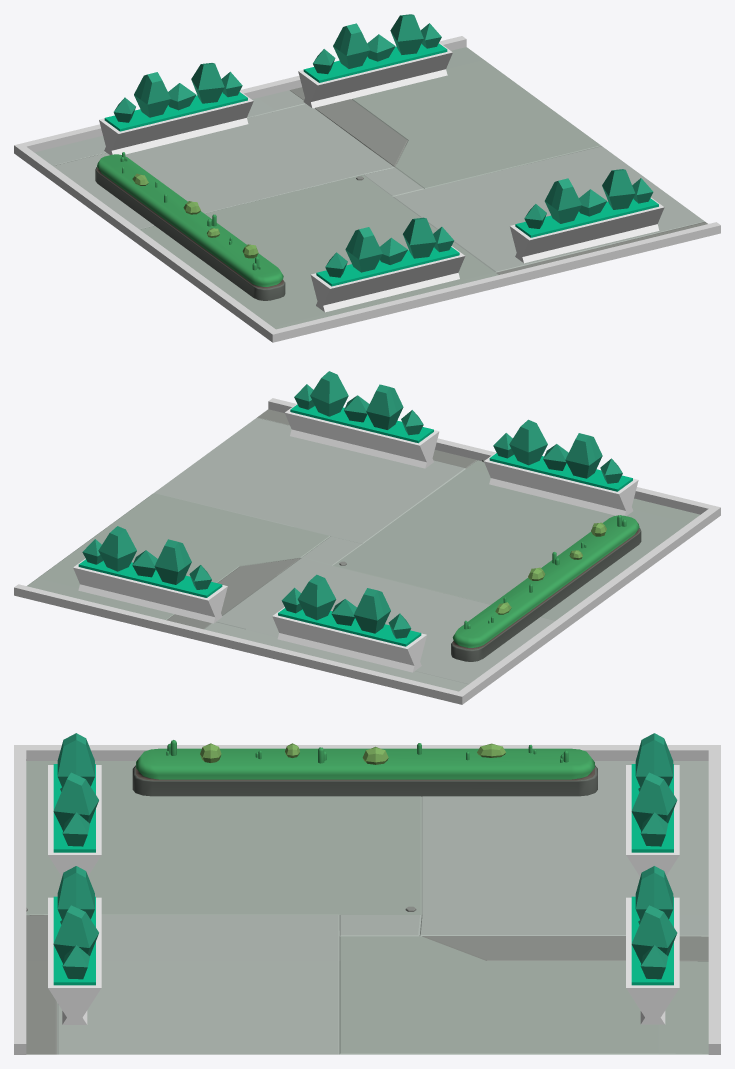
The picture shows the model from 3 angles, top to bottom: view 1: azimuth 30°, elevation 25°; view 2: azimuth 150°, elevation 25°; view 3: azimuth 270°, elevation 25°; orthographic projection. The views are drawn at different scales.
Parts seen in each view (by area): view 1: Scifi_Panel_04_Plaza014_group4.038_Scifi_Panel_04_Plaza014_g, Cube.1136_Cube.1265, base_pot.002_base_pot.030, base_pot.003_base_pot.031, base_pot.001_base_pot.029, base_pot.000_base_pot.028, TreePatch_Plaza014_group3.002_TreePatch_Plaza014_group3.040; view 2: Scifi_Panel_04_Plaza014_group4.038_Scifi_Panel_04_Plaza014_g, Cube.1136_Cube.1265, base_pot.001_base_pot.029, base_pot.002_base_pot.030, base_pot.003_base_pot.031, base_pot.000_base_pot.028, TreePatch_Plaza014_group3.002_TreePatch_Plaza014_group3.040; view 3: Scifi_Panel_04_Plaza014_group4.038_Scifi_Panel_04_Plaza014_g, TreePatch_Plaza014_group3.002_TreePatch_Plaza014_group3.040, Cube.1136_Cube.1265, base_pot.000_base_pot.028, base_pot.003_base_pot.031, base_pot.002_base_pot.030, base_pot.001_base_pot.029.
Boxes of the visible parts, bbox=[...] form: Scifi_Panel_04_Plaza014_group4.038_Scifi_Panel_04_Plaza014_g: bbox=[34, 47, 707, 329]; Cube.1136_Cube.1265: bbox=[14, 36, 720, 342]; base_pot.002_base_pot.030: bbox=[310, 217, 465, 312]; base_pot.003_base_pot.031: bbox=[510, 169, 664, 263]; base_pot.001_base_pot.029: bbox=[99, 63, 253, 154]; base_pot.000_base_pot.028: bbox=[298, 14, 452, 108]; TreePatch_Plaza014_group3.002_TreePatch_Plaza014_group3.040: bbox=[95, 154, 285, 300]; Scifi_Panel_04_Plaza014_group4.038_Scifi_Panel_04_Plaza014_g: bbox=[27, 409, 700, 691]; Cube.1136_Cube.1265: bbox=[14, 398, 720, 704]; base_pot.001_base_pot.029: bbox=[272, 574, 426, 672]; base_pot.002_base_pot.030: bbox=[484, 419, 638, 515]; base_pot.003_base_pot.031: bbox=[285, 371, 439, 468]; base_pot.000_base_pot.028: bbox=[73, 526, 227, 623]; TreePatch_Plaza014_group3.002_TreePatch_Plaza014_group3.040: bbox=[451, 515, 641, 661]; Scifi_Panel_04_Plaza014_group4.038_Scifi_Panel_04_Plaza014_g: bbox=[26, 759, 708, 1054]; TreePatch_Plaza014_group3.002_TreePatch_Plaza014_group3.040: bbox=[132, 748, 597, 796]; Cube.1136_Cube.1265: bbox=[14, 745, 720, 1054]; base_pot.000_base_pot.028: bbox=[626, 866, 679, 1024]; base_pot.003_base_pot.031: bbox=[48, 866, 101, 1024]; base_pot.002_base_pot.030: bbox=[48, 733, 101, 876]; base_pot.001_base_pot.029: bbox=[626, 733, 679, 876].
Bounding box in the file's own units: 10 × 1.51 × 10.
